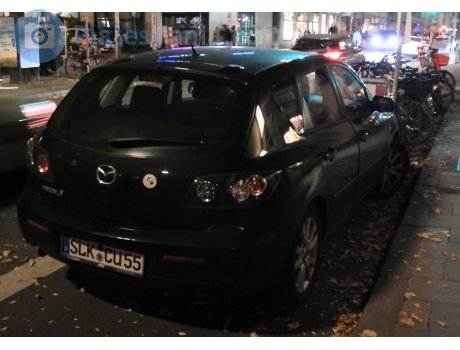License Plates: (75, 245, 142, 265)
